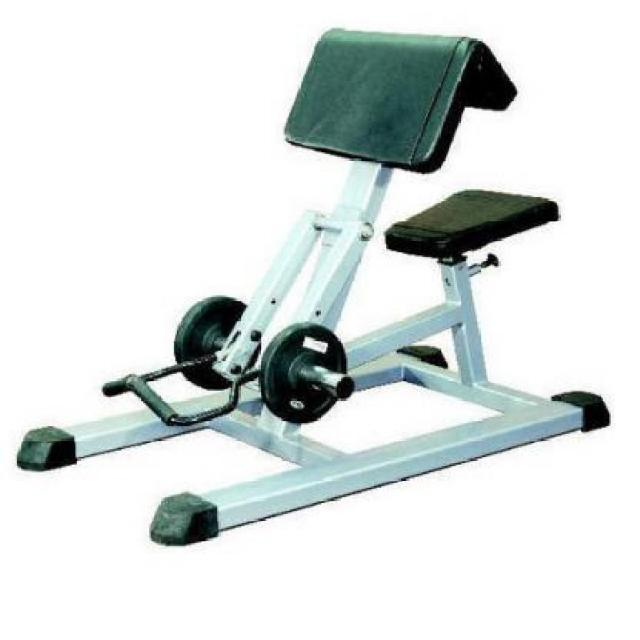arm curl machine: (17, 29, 612, 546)
